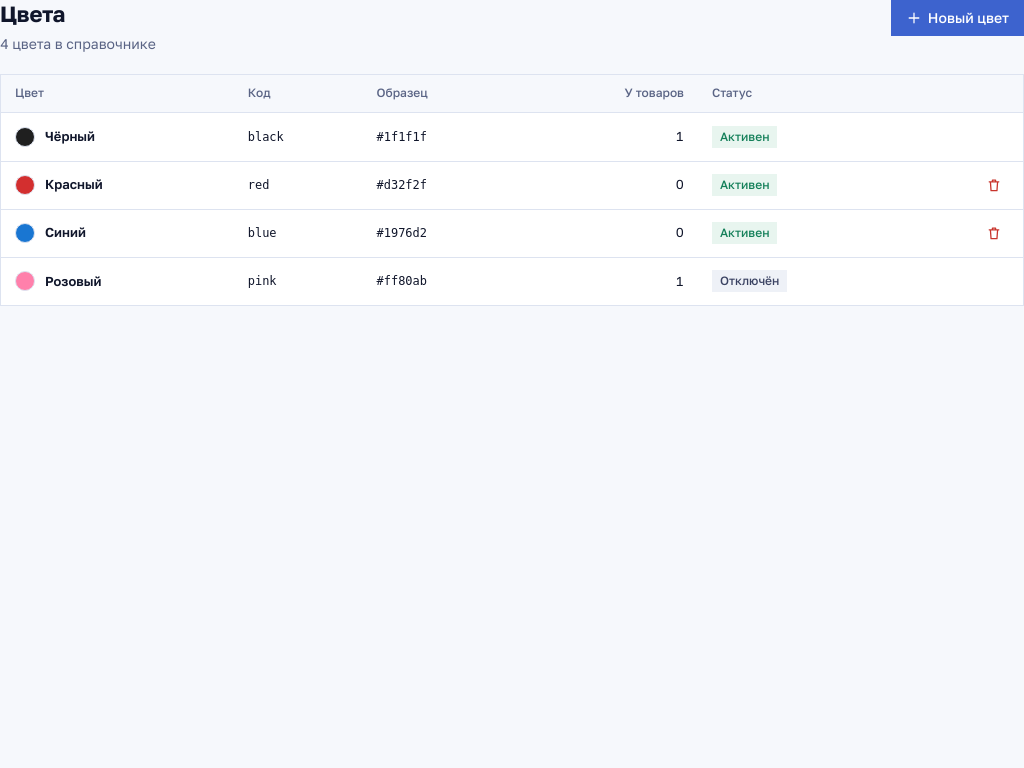
справочник цветов › удаление неиспользуемого цвета после подтверждения
The width and height of the screenshot is (1024, 768).
Expected: the text "black" is shown, top-left (248, 130), bottom-right (284, 144)
Click the button named "Удалить цвет Красный" at point(994, 185), box top-left (979, 170), bottom-right (1009, 200)
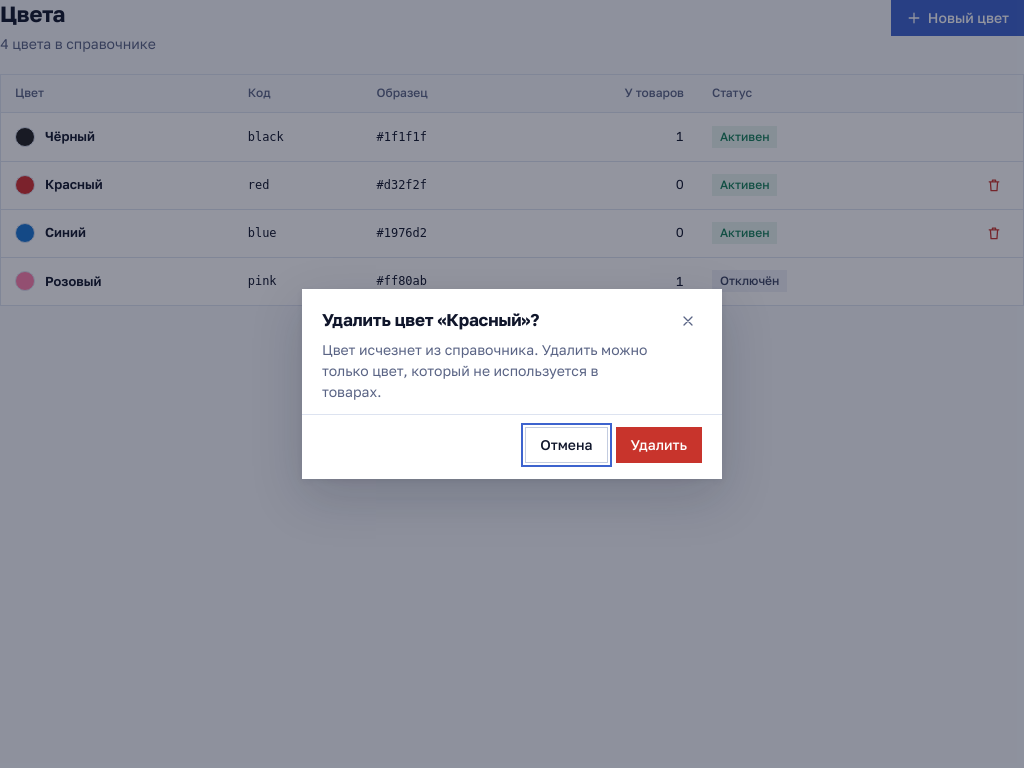
Click the button "Удалить" at point(659, 445), box top-left (616, 427), bottom-right (702, 463)
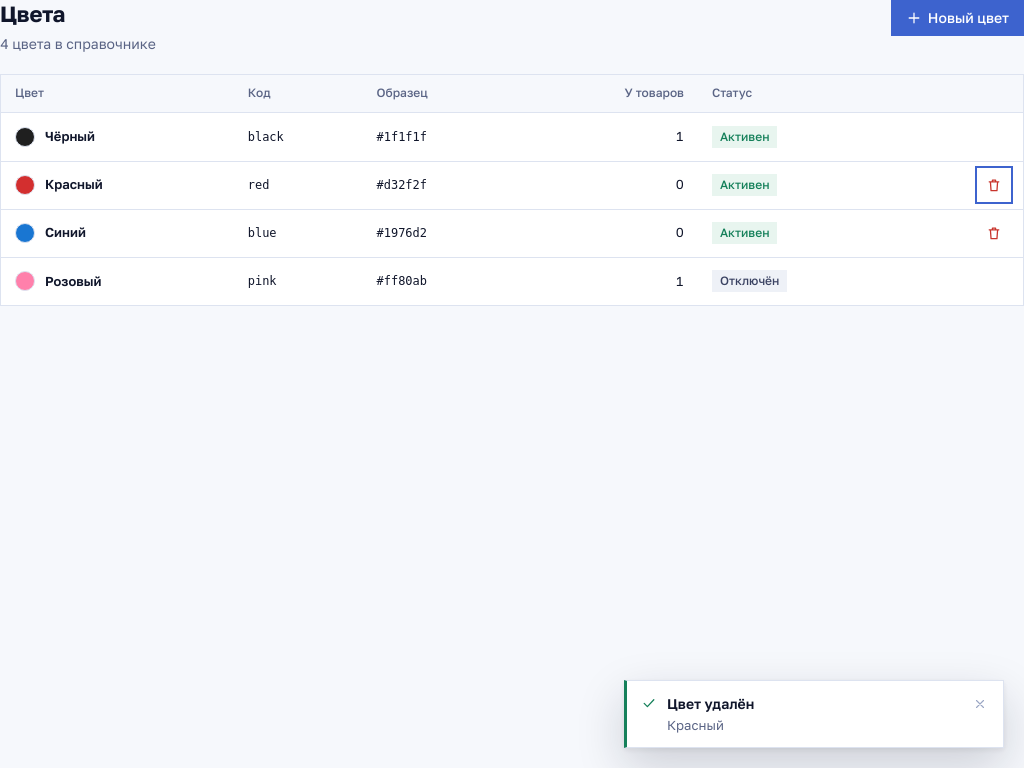
Expected: the text "Цвет удалён" is shown, top-left (667, 694), bottom-right (754, 712)
